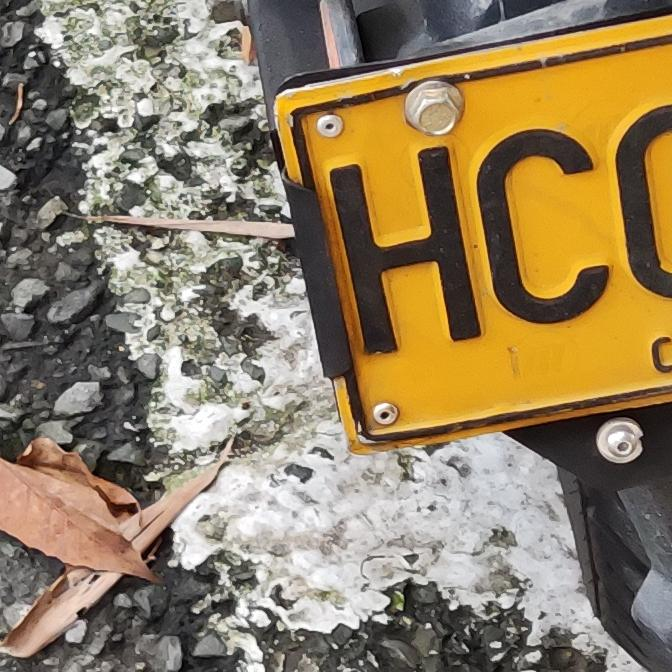plates: (264, 14, 672, 475)
